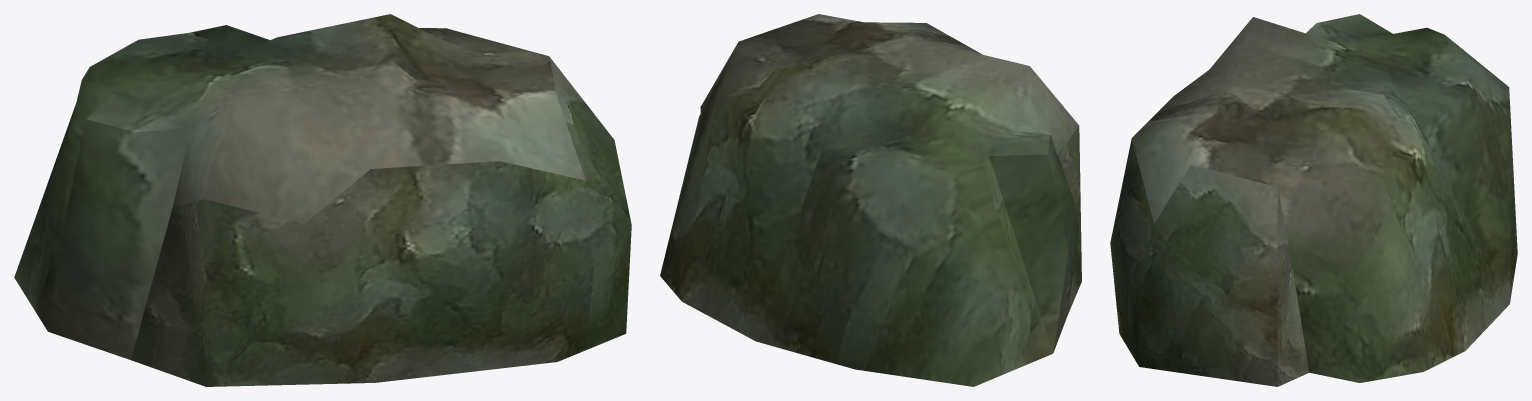
3 renders of one model, left to right at view 1: azimuth 30°, elevation 25°; view 2: azimuth 150°, elevation 25°; view 3: azimuth 270°, elevation 25°, orthographic. The views are drawn at different scales.
Visible parts, largest first — view 1: polySurface2456; view 2: polySurface2456; view 3: polySurface2456.
Boxes of the visible parts, x1,y1,x2,y2 form: polySurface2456: (14,14,631,386); polySurface2456: (660,14,1081,386); polySurface2456: (1110,14,1517,386).
Bounding box in the file's own units: 5.1 × 2.58 × 4.41.
